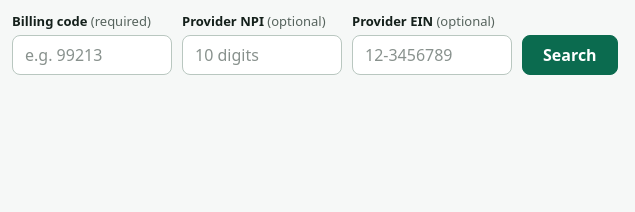
Test: Escape closes the list, keeps what was typed, and goes no further
Type "992" into the dropdown labelled "Billing code (required)" at (92, 55), box [12,35,172,75]
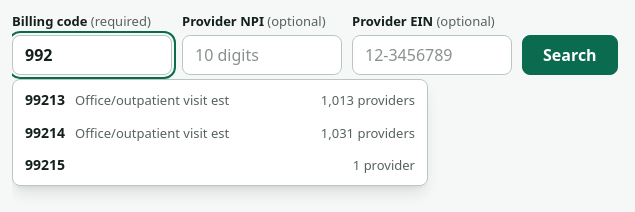
Press Escape
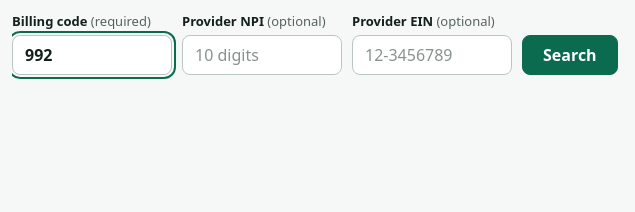
Check: the list is gone
